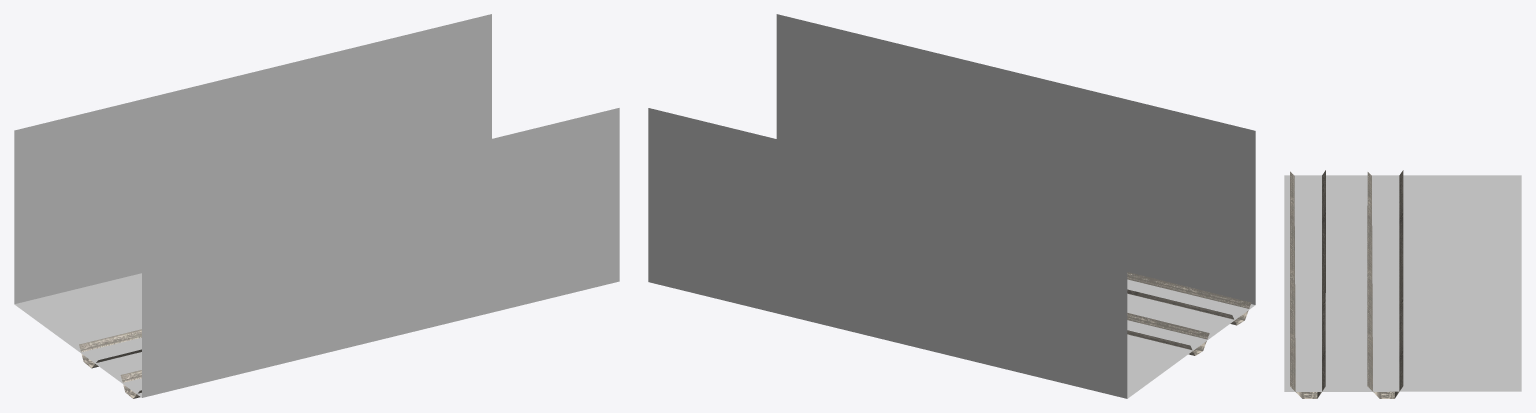
File: SophetStrt.fbx
3 renders of one model, left to right at view 1: azimuth 30°, elevation 25°; view 2: azimuth 150°, elevation 25°; view 3: azimuth 270°, elevation 25°, orthographic. The views are drawn at different scales.
Visible parts, largest first — view 1: CeilingCorner.000; view 2: CeilingCorner.000; view 3: CeilingCorner.000.
Part boxes in pixels (x1,y1,x2,y2): CeilingCorner.000: (14,14,619,398); CeilingCorner.000: (648,14,1255,398); CeilingCorner.000: (1284,170,1521,398).
Size of the model in its own units: 1084 by 394 by 502.
